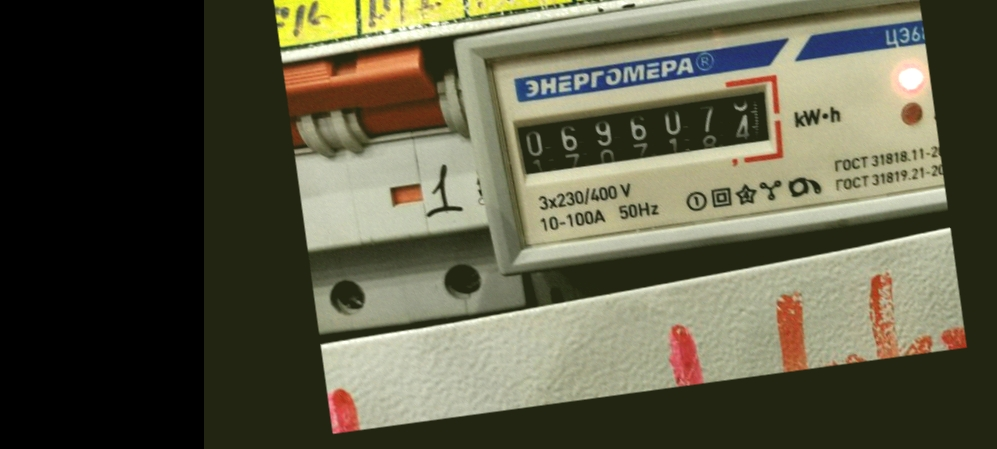0: (524, 126, 548, 158), (664, 104, 687, 136)
4: (732, 111, 755, 141)
6: (558, 120, 584, 153), (629, 111, 652, 141)
7: (699, 100, 720, 133)
9: (595, 117, 617, 148)
screen: (497, 67, 792, 194)
